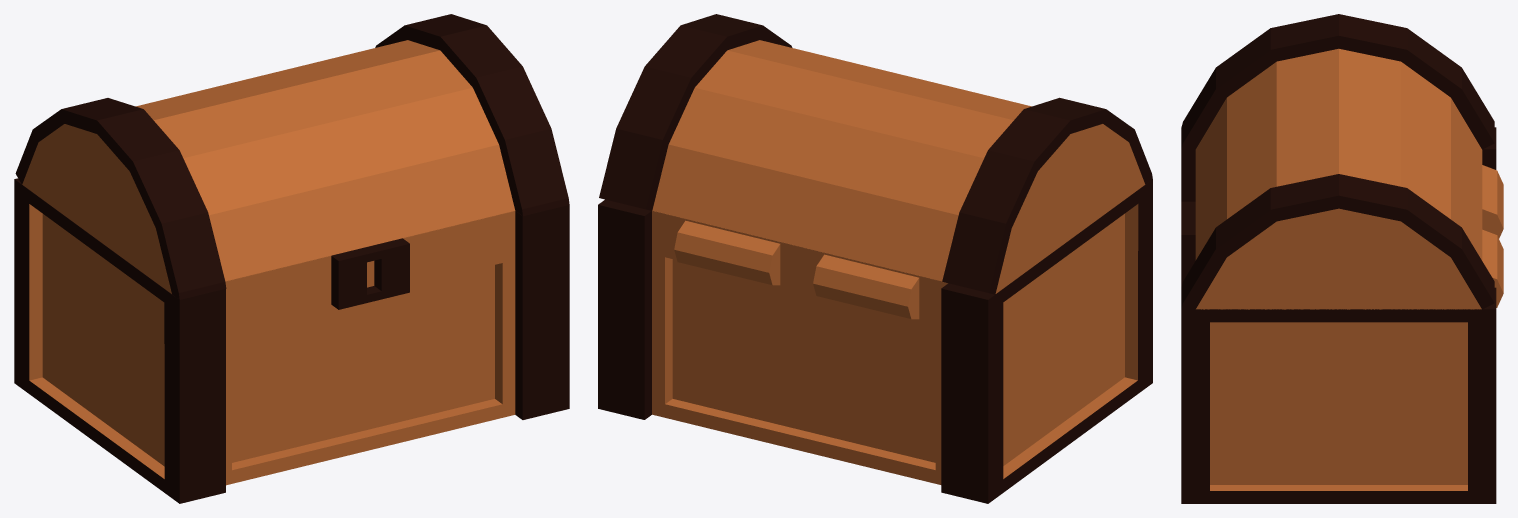
The model's file is Chests.fbx.
3 views of the same model, side by side, from view 1: azimuth 30°, elevation 25°; view 2: azimuth 150°, elevation 25°; view 3: azimuth 270°, elevation 25° (orthographic). The views are drawn at different scales.
Visible parts, largest first — view 1: Chest_Open, Chest_Open_Cap; view 2: Chest_Open, Chest_Open_Cap; view 3: Chest_Open_Cap, Chest_Open.
Boxes of the visible parts, box(x1,y1,x2,y2) form: Chest_Open: box(14, 178, 569, 503); Chest_Open_Cap: box(15, 14, 569, 299); Chest_Open: box(598, 179, 1152, 503); Chest_Open_Cap: box(599, 14, 1152, 294); Chest_Open_Cap: box(1181, 14, 1494, 309); Chest_Open: box(1181, 127, 1503, 503).
Size of the model in its own units: 237 by 187 by 177.
